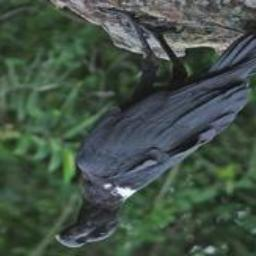Crow: (50, 7, 256, 252)
